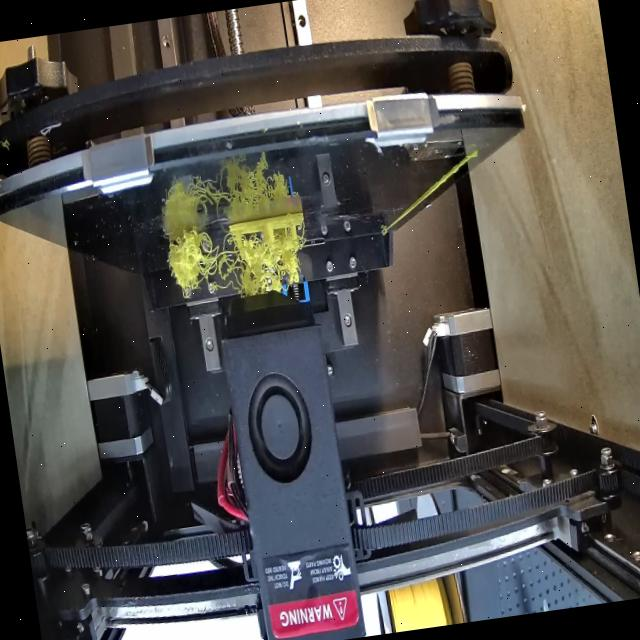spaghetti: (230, 225, 311, 312), (164, 230, 238, 307)
